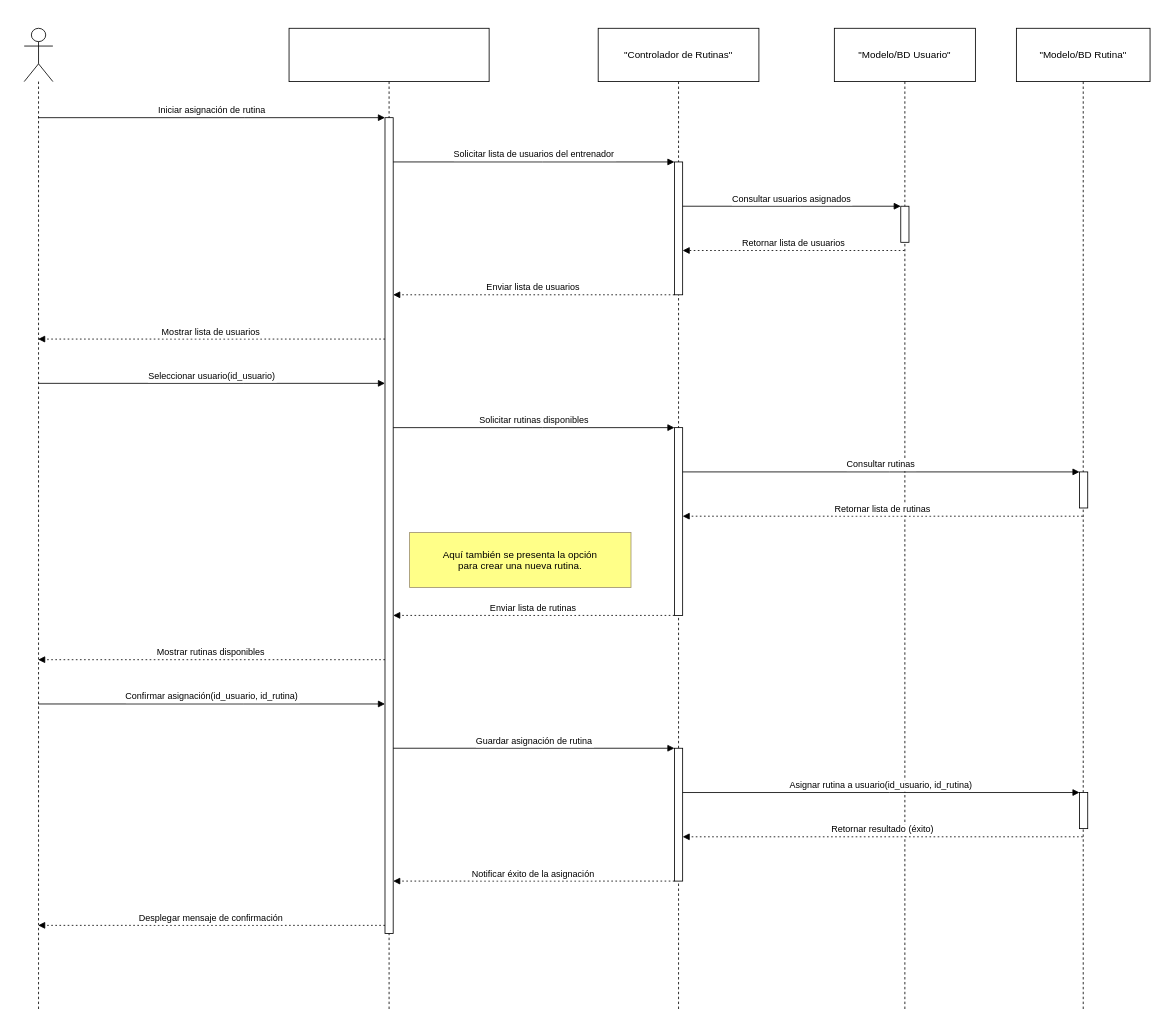
The diagram is 1164 pixels wide and 1026 high, and some of its shapes have lost their labels. Here are the shapes that lost their labels. From the top down, the box of each, then its label:
(23, 27, 53, 1011): Entrenador
(288, 27, 489, 1011): "Interfaz de Gestión de Rutinas"
